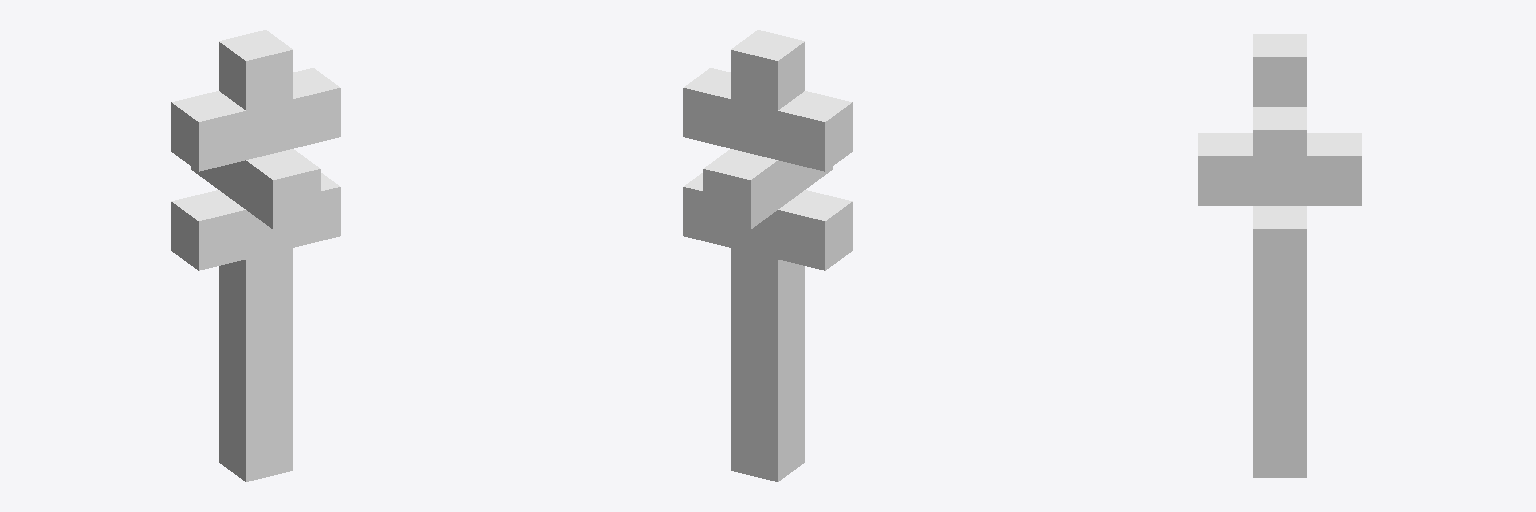
File: plants1_4.obj
3 renders of one model, left to right at view 1: azimuth 30°, elevation 25°; view 2: azimuth 150°, elevation 25°; view 3: azimuth 270°, elevation 25°, orthographic.
Visible parts, largest first — view 1: object 1; view 2: object 1; view 3: object 1.
Boxes of the visible parts, x1=… form: object 1: x1=171, y1=30, x2=340, y2=481; object 1: x1=683, y1=30, x2=852, y2=481; object 1: x1=1198, y1=34, x2=1361, y2=477.
Size of the model in its own units: 1.2 by 3.4 by 1.2.